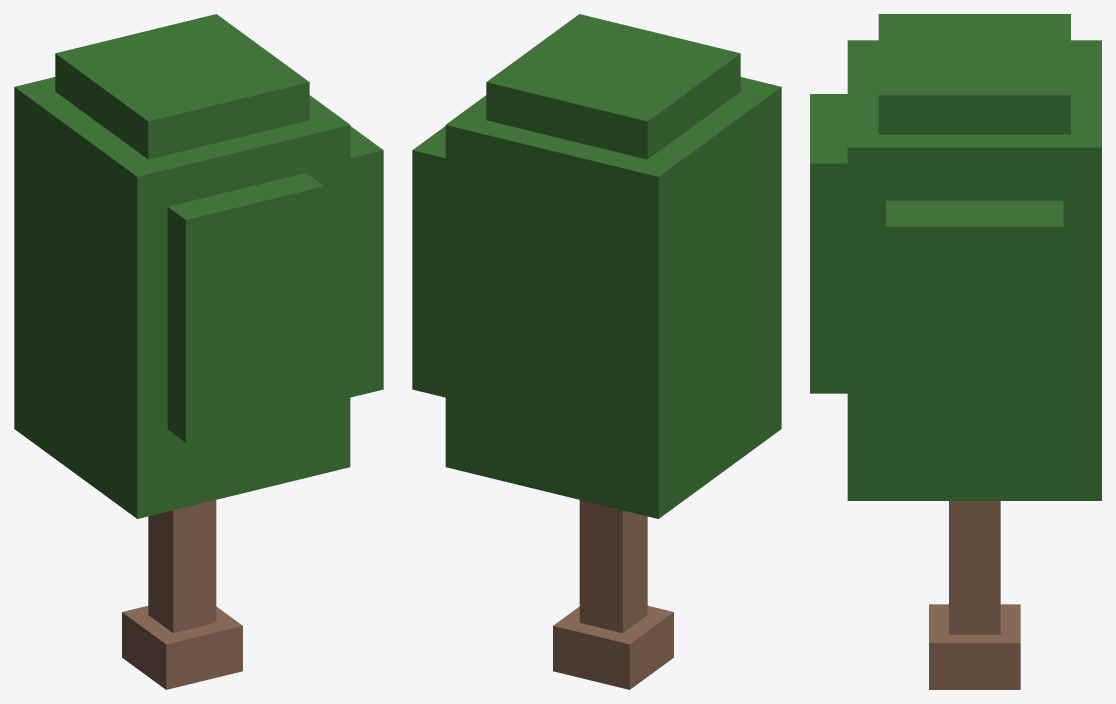
Rendered from Arbre.fbx.
The picture shows the model from 3 angles, left to right: view 1: azimuth 30°, elevation 25°; view 2: azimuth 150°, elevation 25°; view 3: azimuth 270°, elevation 25°; orthographic projection. The views are drawn at different scales.
Visible parts, largest first — view 1: arbre; view 2: arbre; view 3: arbre.
Part boxes in pixels (x1,y1,x2,y2): arbre: [14, 14, 383, 689]; arbre: [412, 14, 781, 689]; arbre: [810, 14, 1101, 689].
Bounding box in the file's own units: 8.8 × 18.95 × 8.13.
